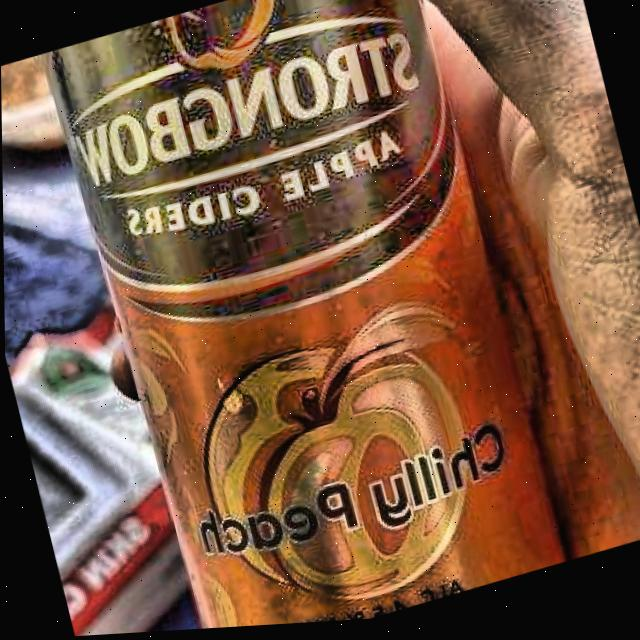metal: (43, 0, 574, 638)
